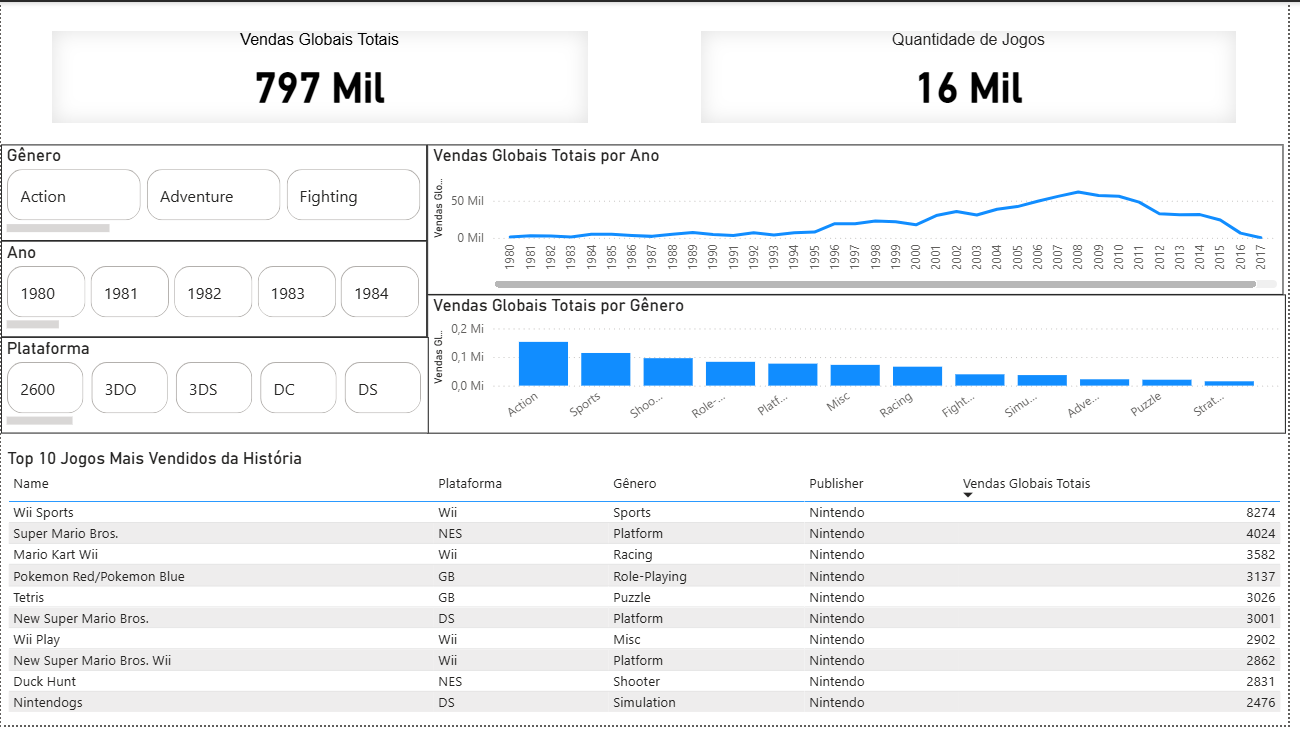

The page's visual inventory and layout, read from the dashboard file:
{"tool":"powerbi","page":{"name":"Página 1","canvas":[1280,720],"ordinal":0},"visuals":[{"type":"card","title":"Quantidade de Jogos","fields":{"Values":["vgsales.Quantidade de Jogos"]},"box":[696.6,28.6,532.4,92.1],"z":0},{"type":"card","title":"Vendas Globais Totais","fields":{"Values":["vgsales.Vendas Globais Totais"]},"box":[51,28.6,532.4,92.1],"z":1000},{"type":"columnChart","fields":{"Category":["vgsales.Genre"],"Y":["vgsales.Vendas Globais Totais"]},"box":[424.2,291.1,854.6,138.1],"z":3000},{"type":"lineChart","fields":{"Y":["vgsales.Vendas Globais Totais"],"Category":["vgsales.Year"]},"box":[424.2,141.8,852.1,149.3],"z":4000},{"type":"advancedSlicerVisual","fields":{"Values":["vgsales.Ano"]},"box":[0,237.6,424.2,95.8],"z":5000},{"type":"advancedSlicerVisual","fields":{"Values":["vgsales.Plataforma"]},"box":[0,333.4,424.2,95.8],"z":6000},{"type":"advancedSlicerVisual","fields":{"Values":["vgsales.Gênero"]},"box":[0,141.8,424.2,95.8],"z":7000},{"type":"tableEx","title":"Top 10 Jogos Mais Vendidos da História","fields":{"Values":["vgsales.Name","vgsales.Plataforma","vgsales.Gênero","vgsales.Publisher","vgsales.Vendas Globais Totais"]},"box":[1.2,444.1,1280,274.9],"z":8000}]}

Visuals, with their boxes in screenshot pixels (x1, y1, x2, y2), scaled from the page's 1280x720 canvas onto the 1300x732 screenshot:
"Quantidade de Jogos" card: locate(707, 29, 1248, 123)
"Vendas Globais Totais" card: locate(52, 29, 593, 123)
columnChart - vgsales.Genre x vgsales.Vendas Globais Totais: locate(431, 296, 1299, 436)
lineChart - vgsales.Vendas Globais Totais x vgsales.Year: locate(431, 144, 1296, 296)
advancedSlicerVisual - vgsales.Ano: locate(0, 242, 431, 339)
advancedSlicerVisual - vgsales.Plataforma: locate(0, 339, 431, 436)
advancedSlicerVisual - vgsales.Gênero: locate(0, 144, 431, 242)
"Top 10 Jogos Mais Vendidos da História" tableEx: locate(1, 452, 1299, 731)
